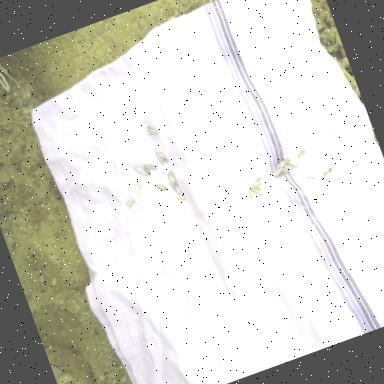pbw: (164, 168, 179, 188), (156, 180, 171, 198), (170, 180, 184, 198), (249, 183, 263, 199), (252, 180, 266, 195), (146, 123, 160, 137), (134, 164, 147, 178), (273, 159, 287, 171), (132, 181, 142, 197), (156, 150, 166, 166), (294, 150, 308, 161), (159, 150, 170, 164), (321, 165, 335, 176), (175, 192, 187, 203), (288, 158, 299, 169), (255, 176, 265, 188), (273, 168, 285, 178), (283, 162, 295, 172), (280, 165, 292, 174), (148, 162, 158, 172), (144, 166, 152, 178), (247, 188, 255, 200), (126, 200, 135, 207)
